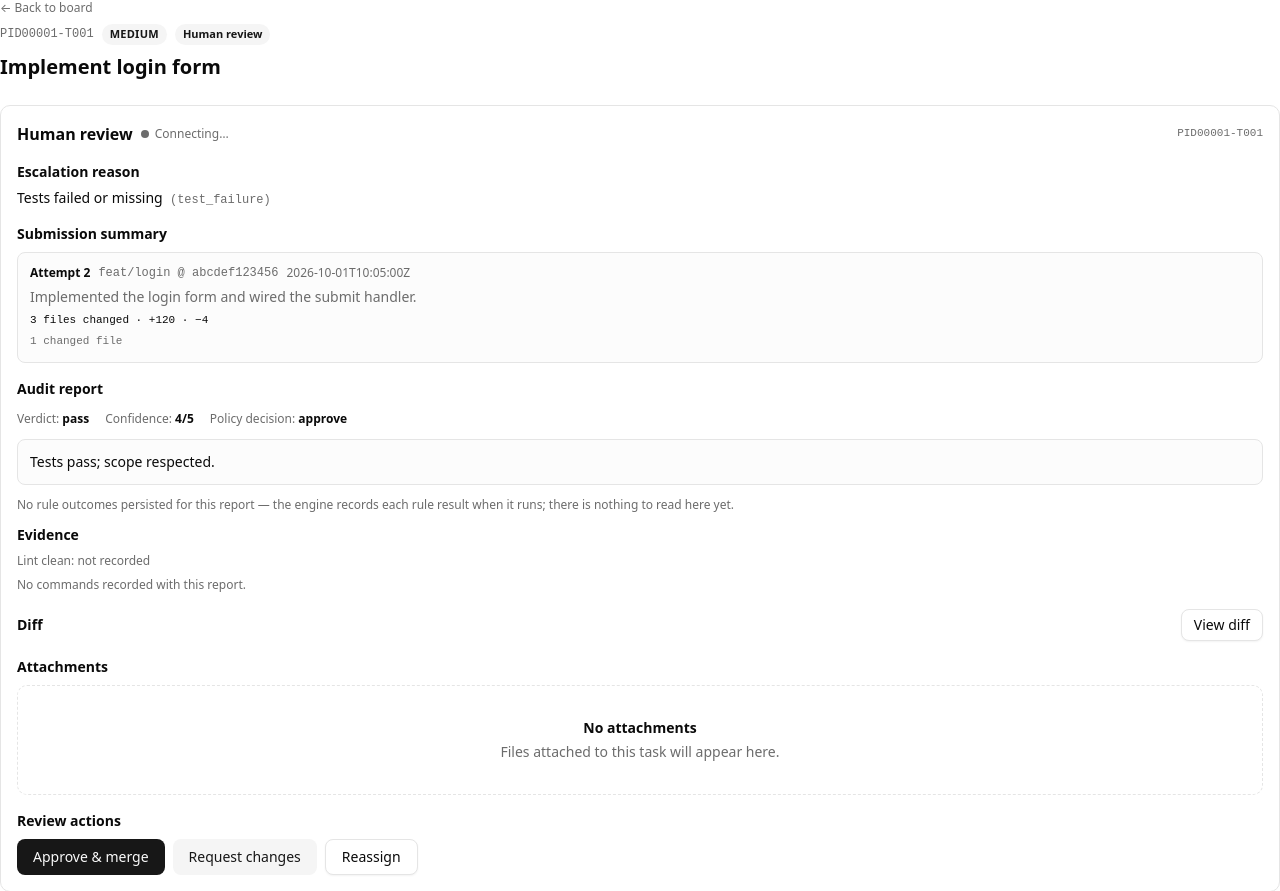
Test: ReviewPanel actions (MT-4.8-03) › approve binds the displayed resolution + version and records the web decision
Click the button with test id "review-approve-open" at [91, 857], box [17,839,164,875]
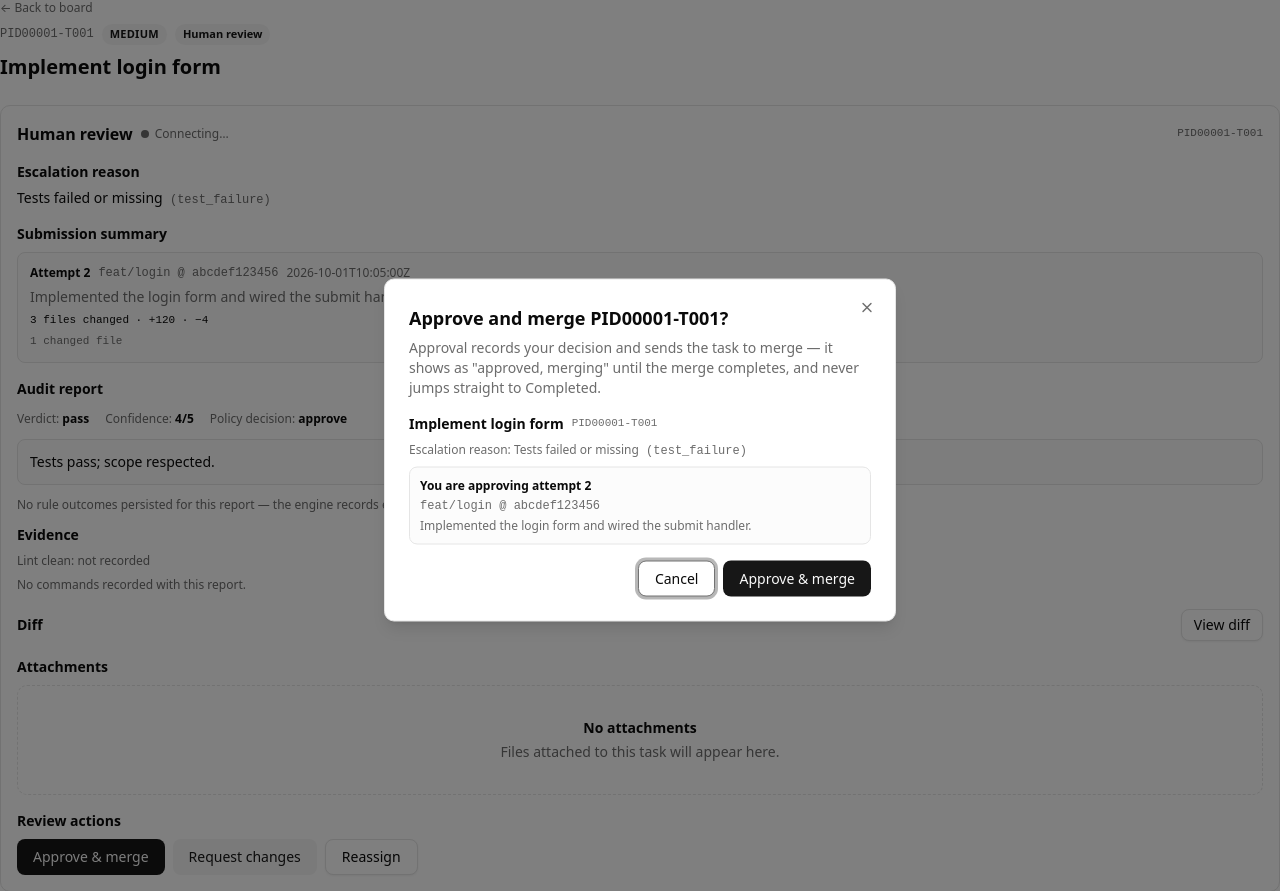
Now the dialog with test id "approve-merge-dialog" is shown, box [384,278,896,622]
Now the element with test id "approve-resolution-context" shows "You are approving attempt 2", box [409,466,871,544]
Click the button with test id "approve-confirm" at [797, 578], box [724,560,871,596]
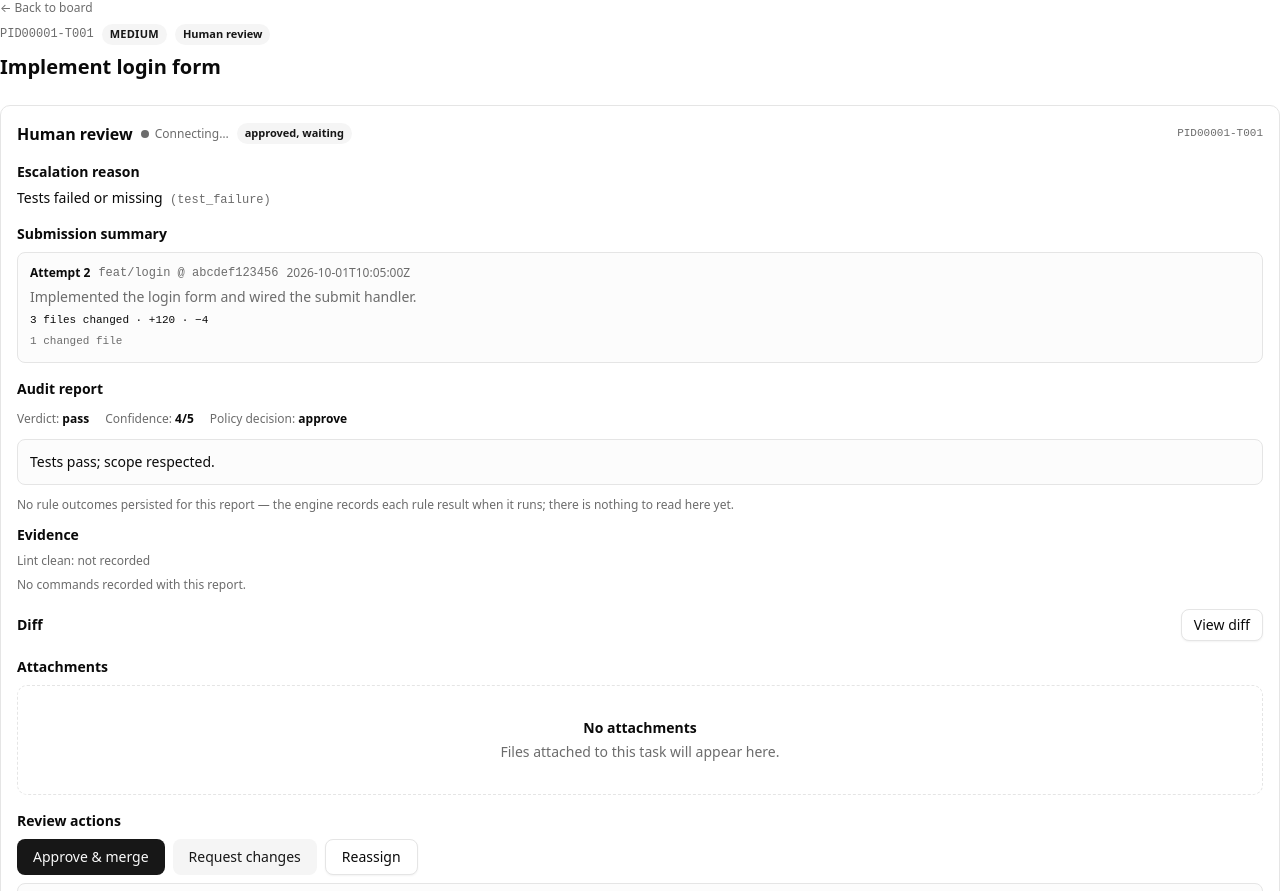
Expected: the text with test id "task-detail-state" reads "Human review", [183,26,262,41]
Now the text with test id "review-notice" no longer shows "completed"
Now the dialog with test id "approve-merge-dialog" is gone
